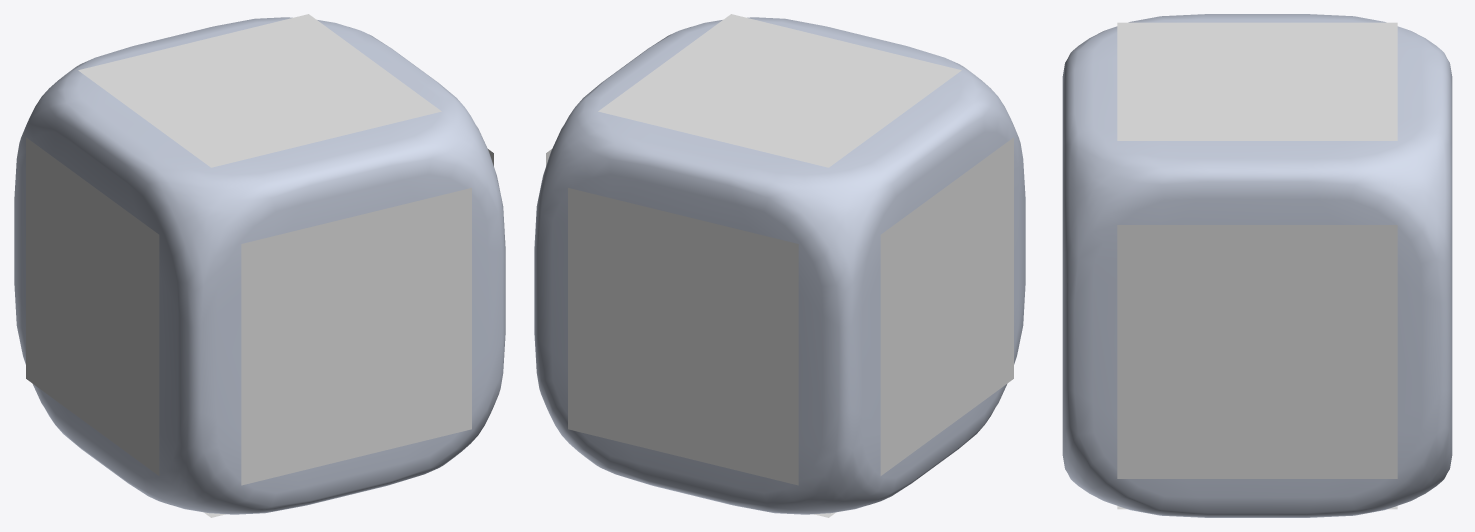
File: dice.fbx
3 renders of one model, left to right at view 1: azimuth 30°, elevation 25°; view 2: azimuth 150°, elevation 25°; view 3: azimuth 270°, elevation 25°, orthographic. The views are drawn at different scales.
Parts seen in each view (by area): view 1: Numbers, Dice; view 2: Numbers, Dice; view 3: Numbers, Dice.
Boxes of the visible parts, x1=… form: Numbers: x1=26, y1=14, x2=493, y2=517; Dice: x1=14, y1=17, x2=505, y2=514; Numbers: x1=546, y1=14, x2=1013, y2=517; Dice: x1=534, y1=17, x2=1025, y2=514; Numbers: x1=1117, y1=22, x2=1397, y2=509; Dice: x1=1062, y1=14, x2=1452, y2=517.
Size of the model in its own units: 209 by 209 by 209.
